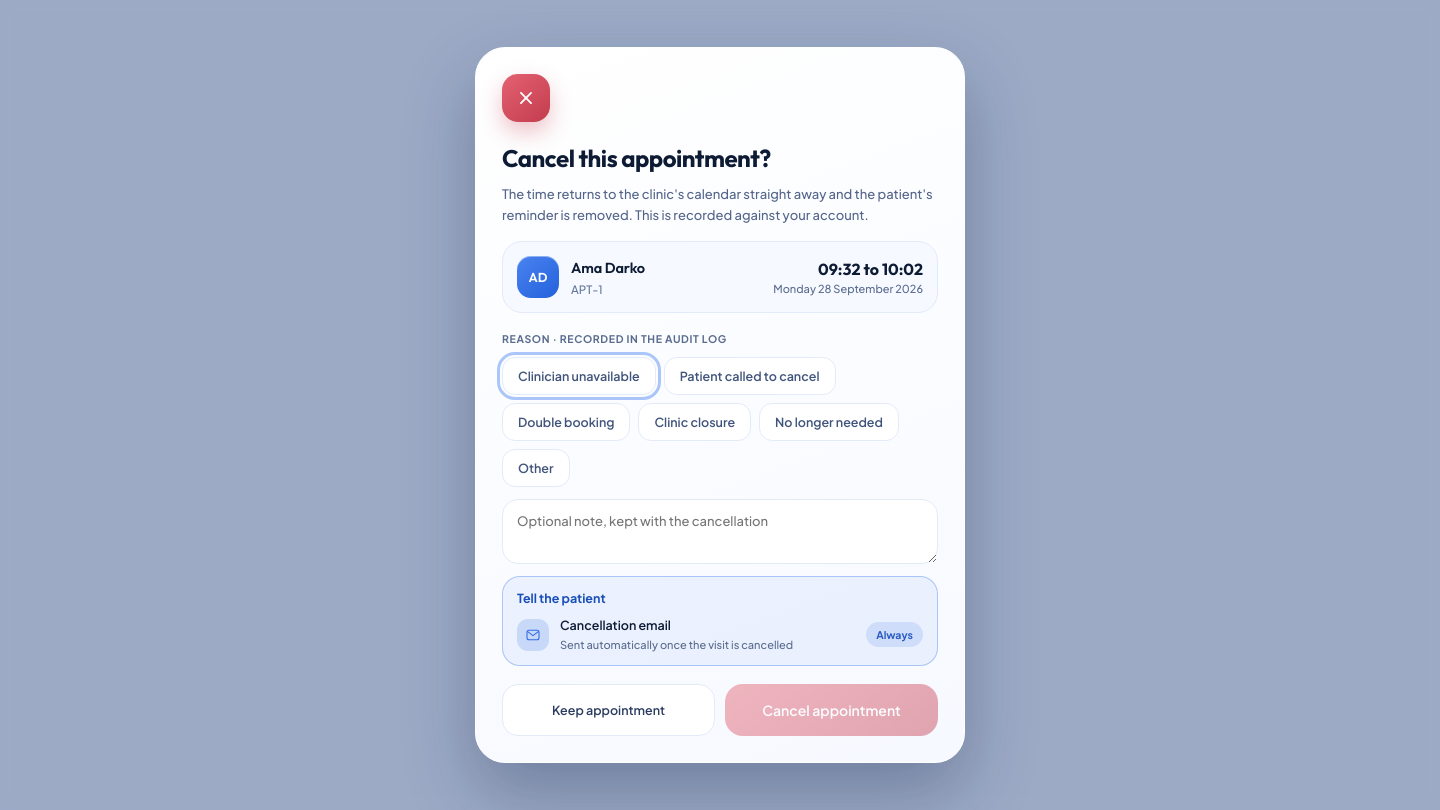
it: Cancelling from the desk › says what went wrong and that nothing changed
The width and height of the screenshot is (1440, 810).
Click the radio button labelled "Double booking".
click(566, 422)  # box [502, 403, 630, 441]
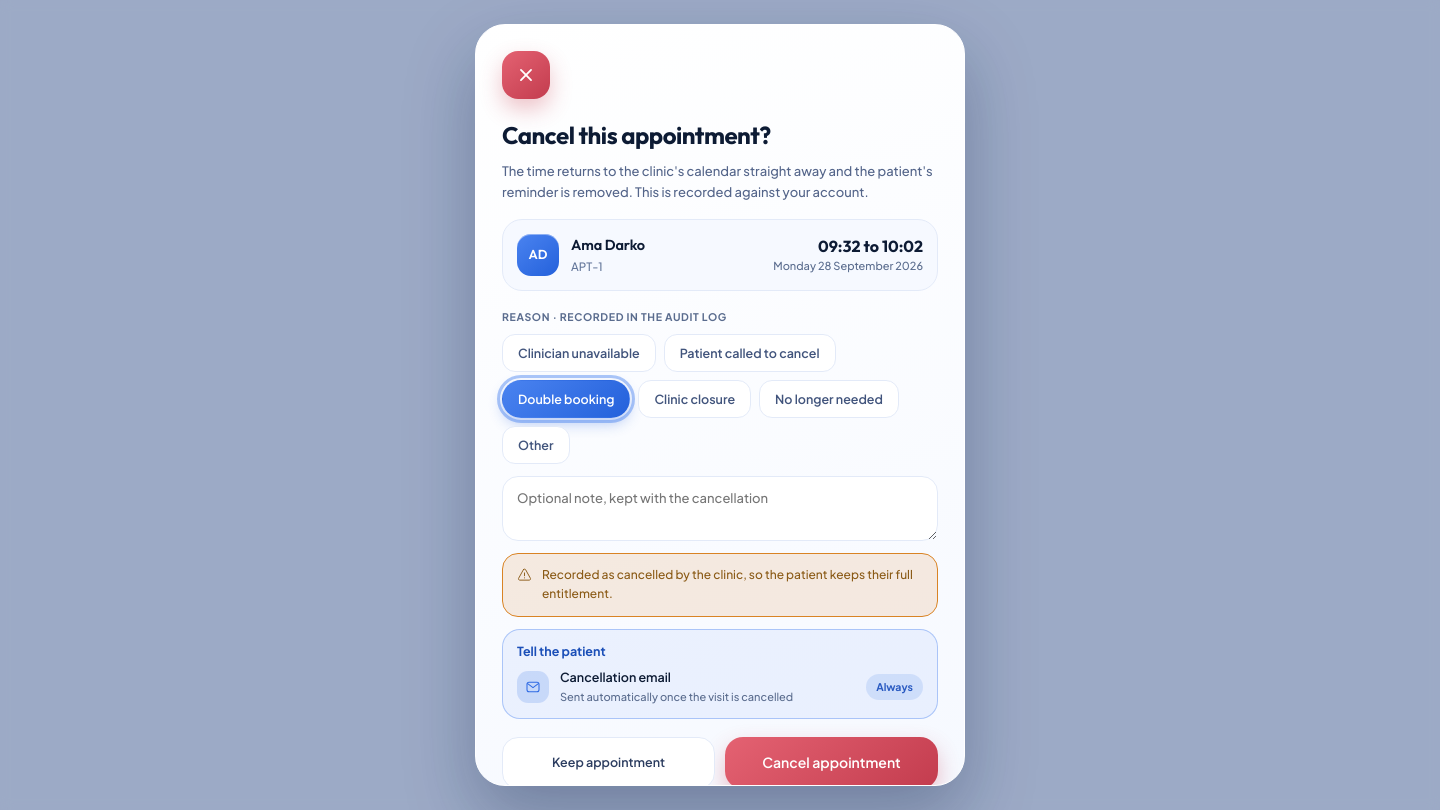
Click the button "Cancel appointment".
click(832, 762)  # box [725, 736, 938, 788]
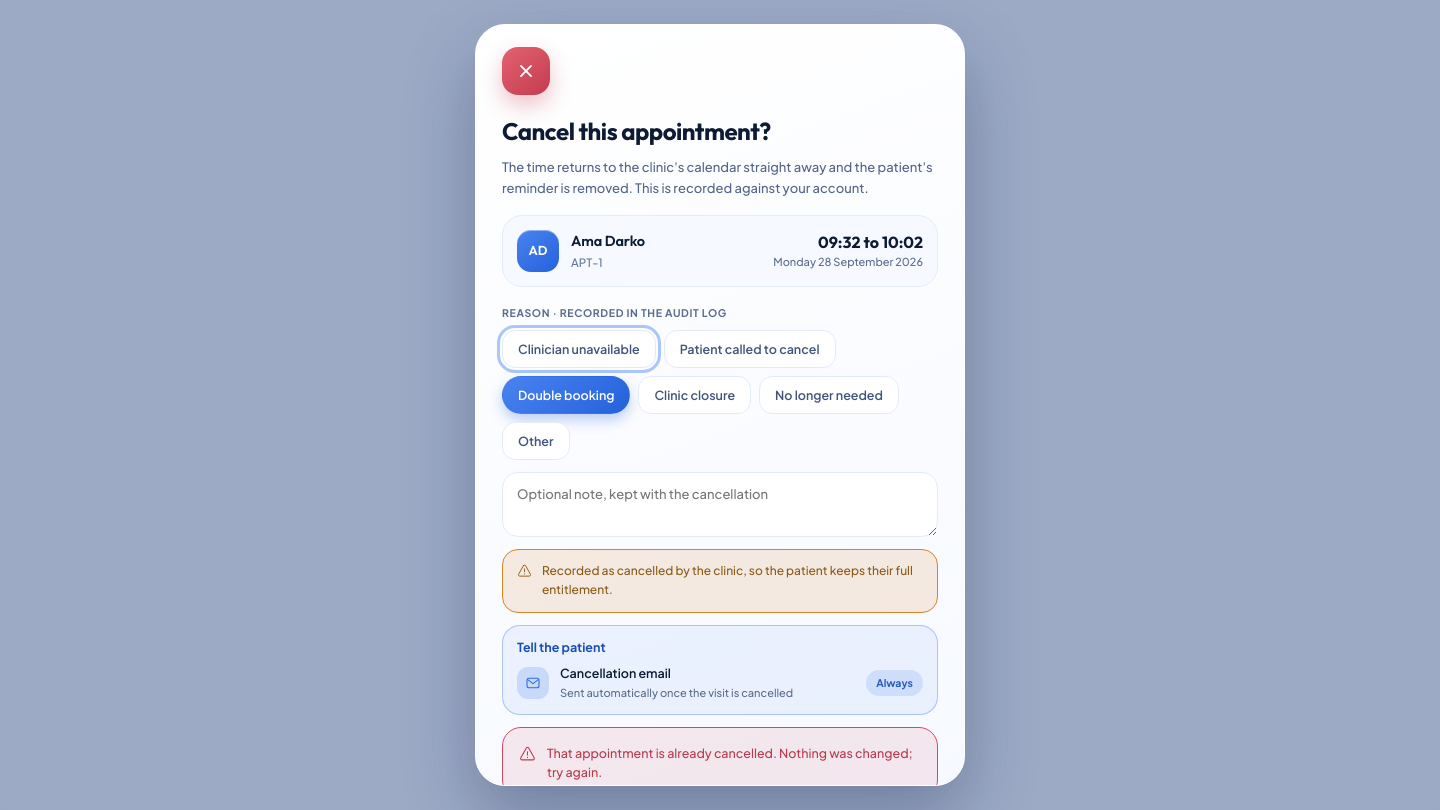
Now the text "That appointment is already cancelled. Nothing was changed; try again." is shown, box [547, 744, 921, 782]
